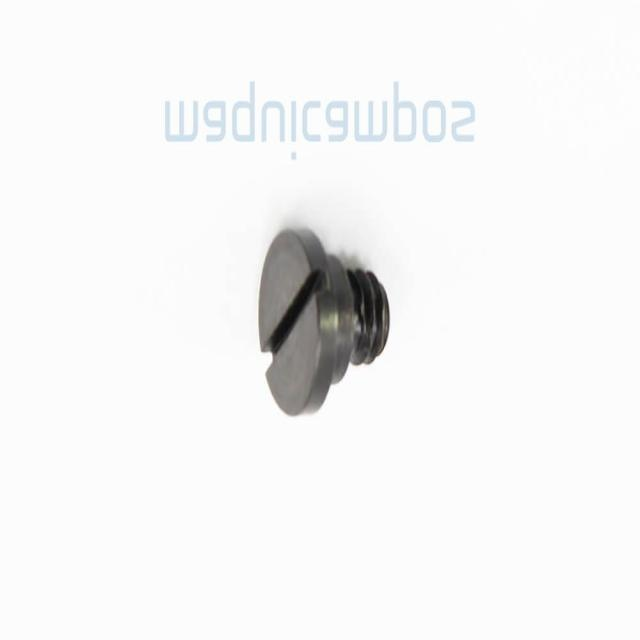duz: (257, 223, 339, 421)
